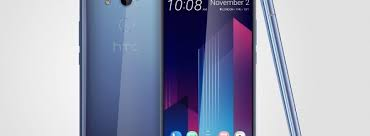htc: (76, 1, 162, 135)
